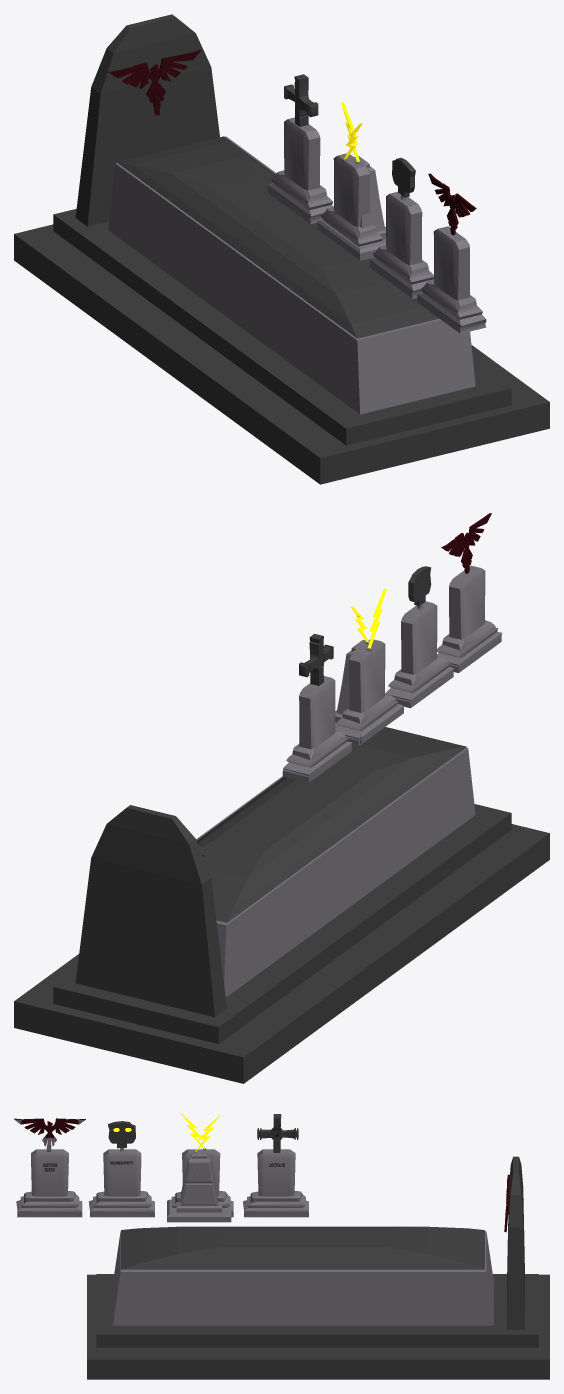
The model's file is eagle_grave.fbx.
The picture shows the model from 3 angles, top to bottom: view 1: azimuth 30°, elevation 25°; view 2: azimuth 150°, elevation 25°; view 3: azimuth 270°, elevation 25°; orthographic projection. The views are drawn at different scales.
Visible parts, largest first — view 1: Cube, kapak, eagle, jesus, humantıty, zeus, eagle.001, ısrael; view 2: Cube, kapak, jesus, eagle, humantıty, zeus, ısrael; view 3: Cube, kapak, eagle, humantıty, jesus, ısrael, zeus.
Boxes of the visible parts, x1,y1,x2,y2 form: Cube: [14, 14, 549, 484]; kapak: [117, 136, 438, 338]; eagle: [417, 173, 486, 333]; jesus: [267, 74, 333, 224]; humantıty: [369, 157, 433, 298]; zeus: [317, 102, 382, 260]; eagle.001: [108, 50, 200, 115]; ısrael: [317, 156, 385, 260]; Cube: [14, 748, 549, 1083]; kapak: [196, 727, 466, 922]; jesus: [282, 633, 352, 782]; eagle: [437, 513, 502, 672]; humantıty: [385, 566, 454, 708]; zeus: [335, 588, 398, 746]; ısrael: [335, 640, 403, 743]; Cube: [87, 1156, 549, 1379]; kapak: [121, 1226, 484, 1269]; eagle: [14, 1118, 85, 1217]; humantıty: [88, 1121, 154, 1217]; jesus: [243, 1114, 308, 1217]; ısrael: [167, 1153, 231, 1222]; zeus: [171, 1113, 233, 1217].
Size of the model in its own units: 162 by 196 by 433.
